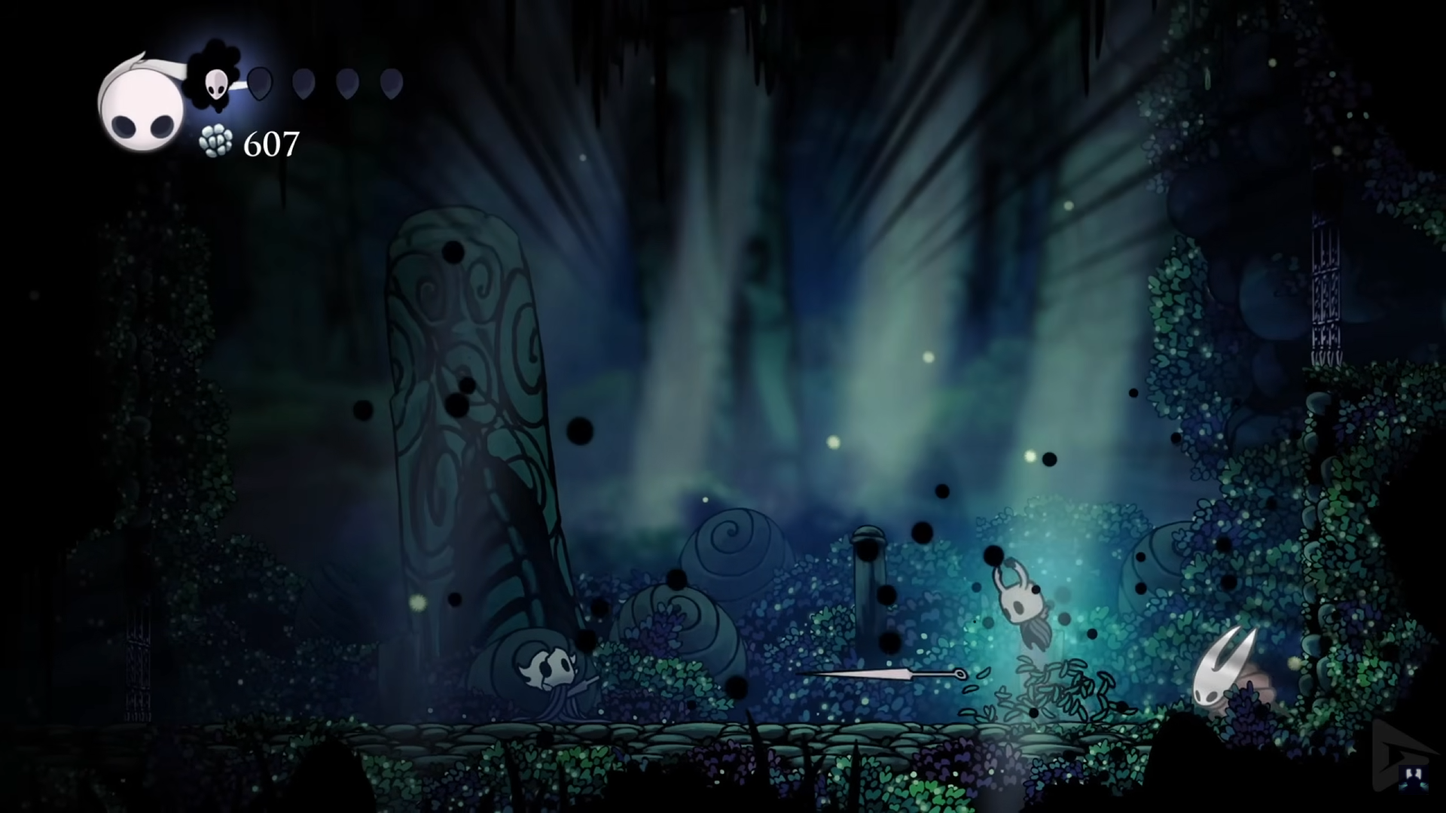HK: (987, 556, 1062, 655)
